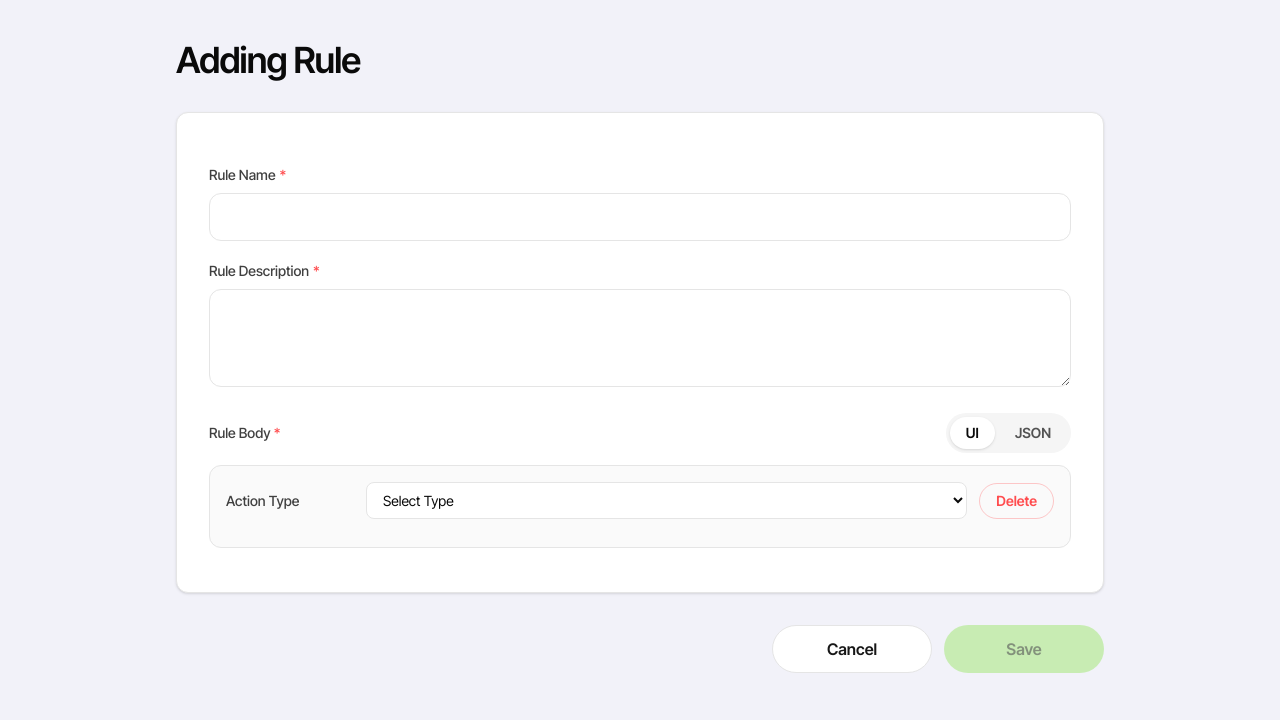
Test case: AddRulePage (component integration, real RuleForm/ActionEditor) › shows field-level errors from a validation error thrown by addRule
Check: the button "Save" is shown, box [944,625,1104,673]
Type "Dup" into the field labelled "Rule Name*" at (640, 217), box [209,193,1071,241]
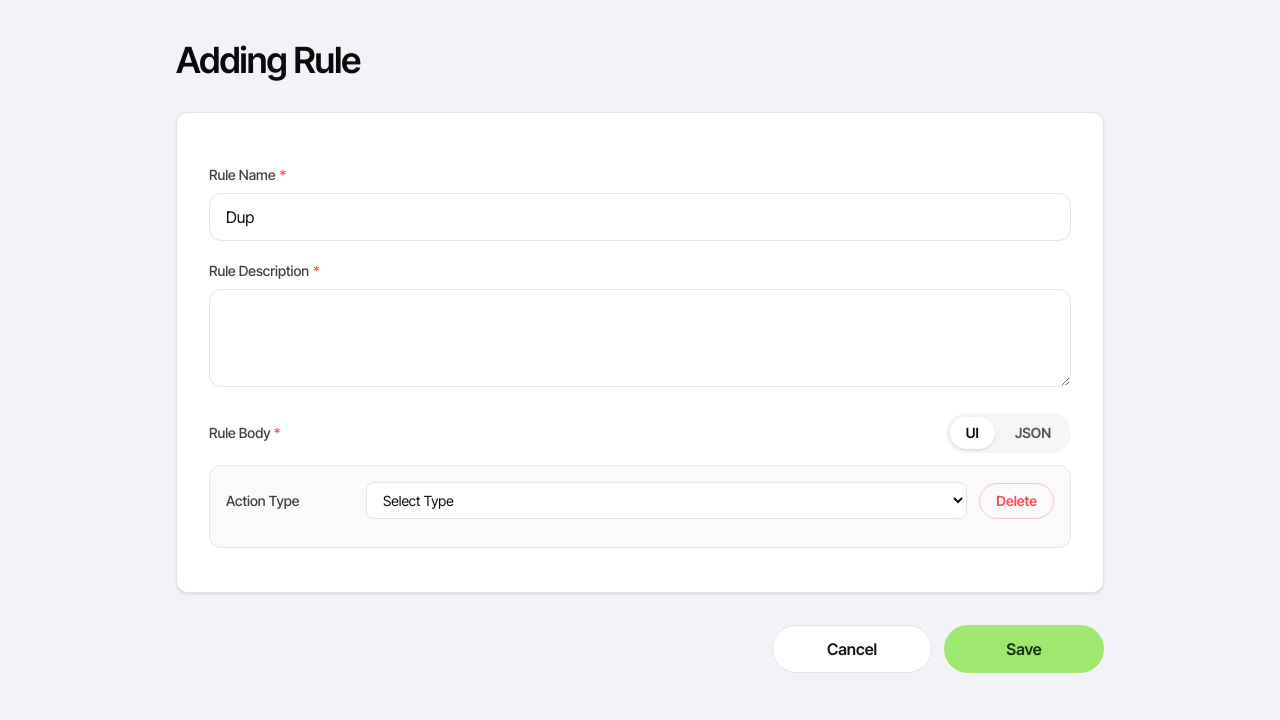
Select "Log" in the dropdown labelled "Action Type" at (667, 500), box [366,482,967,519]
(page scrolled)
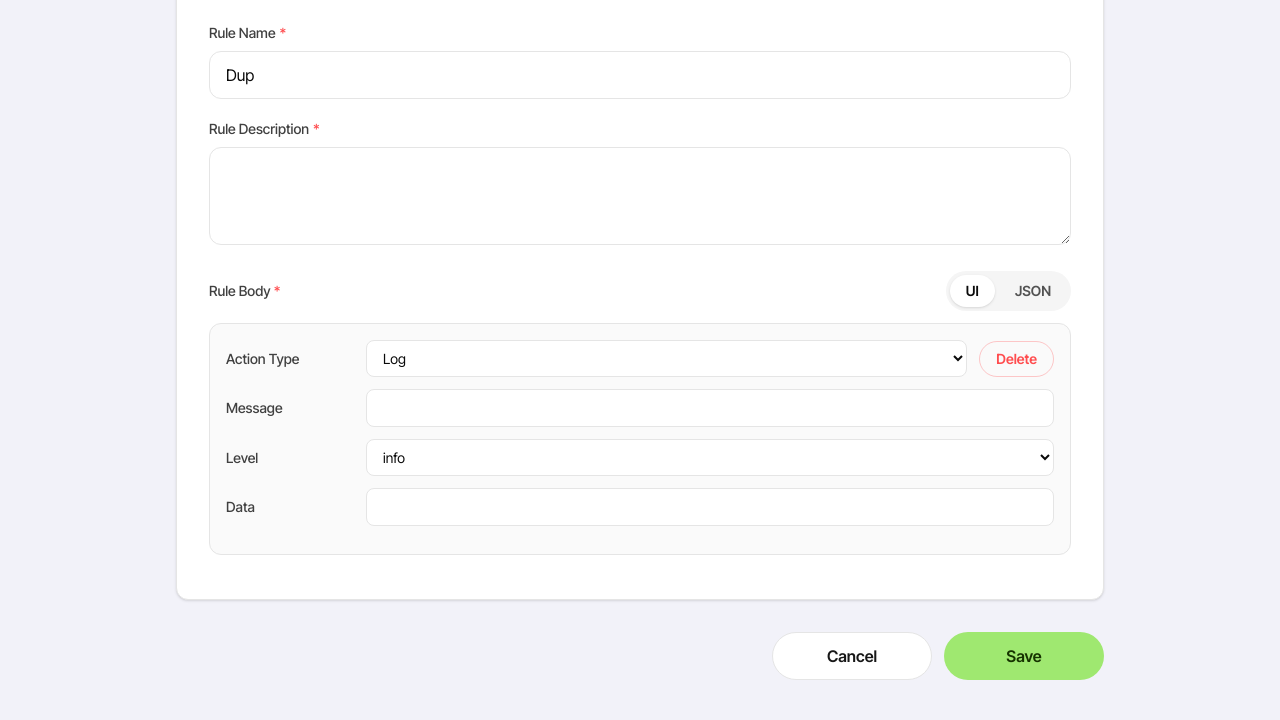
Click the button "Save" at (1024, 656), box [944,632,1104,680]
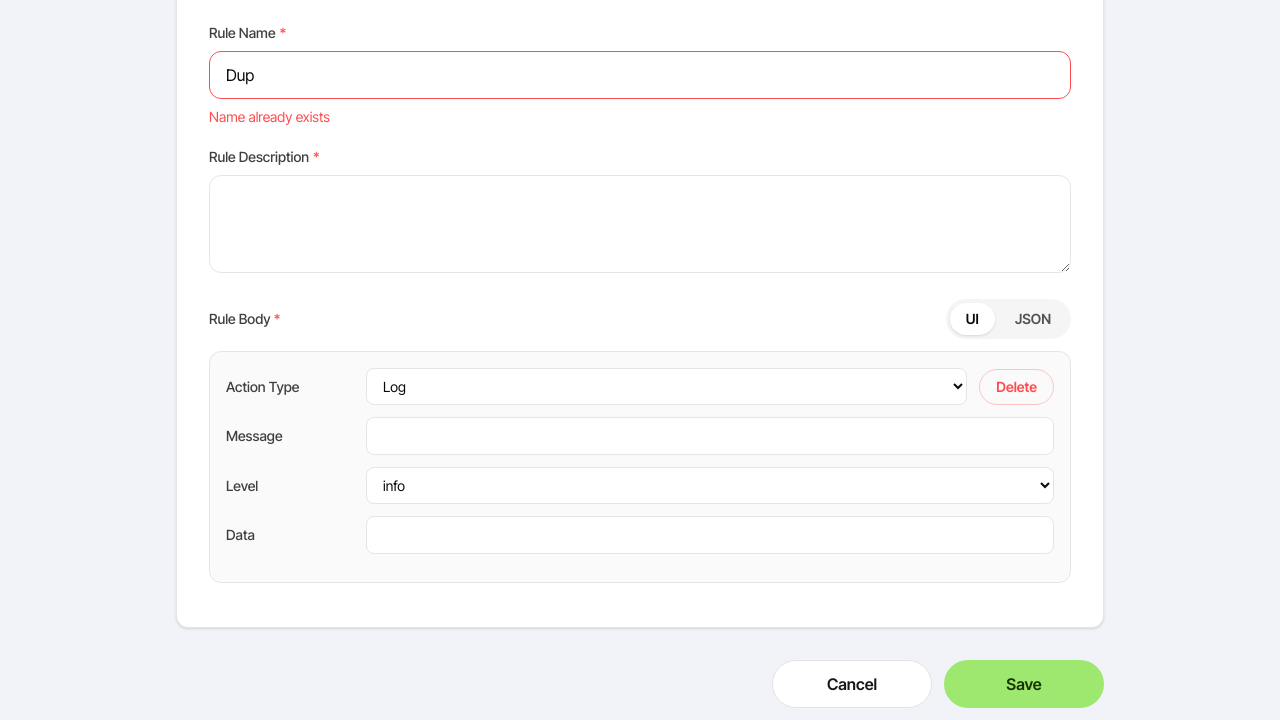
Check: the text "Name already exists" is shown, box [209,108,330,125]
